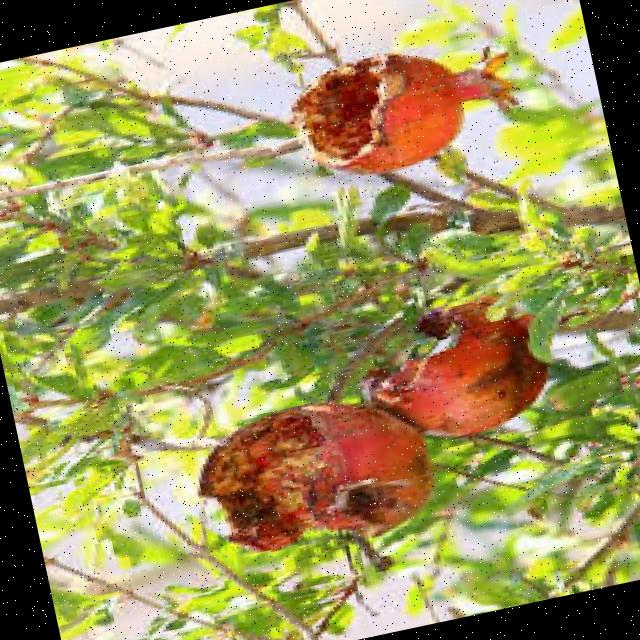overripe: (176, 383, 439, 573), (279, 32, 484, 190)
